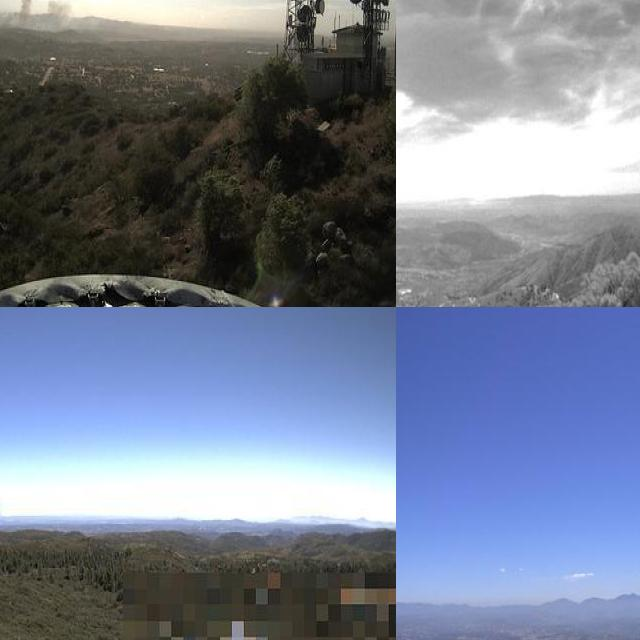smoke: (0, 0, 75, 34), (0, 491, 8, 525)
